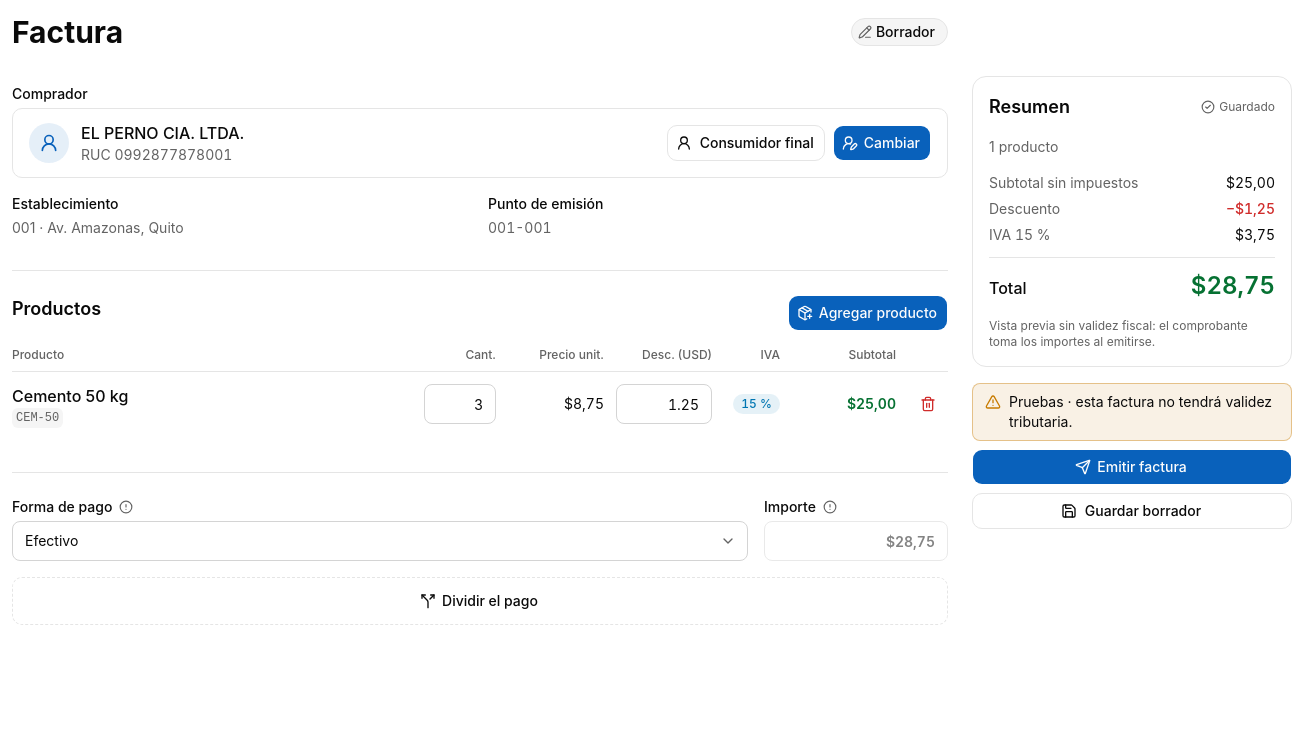
it: composición del editor › quitar una línea se deshace desde el aviso, sin pedir confirmación
Click the button named "Quitar Cemento 50 kg": click(928, 404) [908, 384, 948, 424]
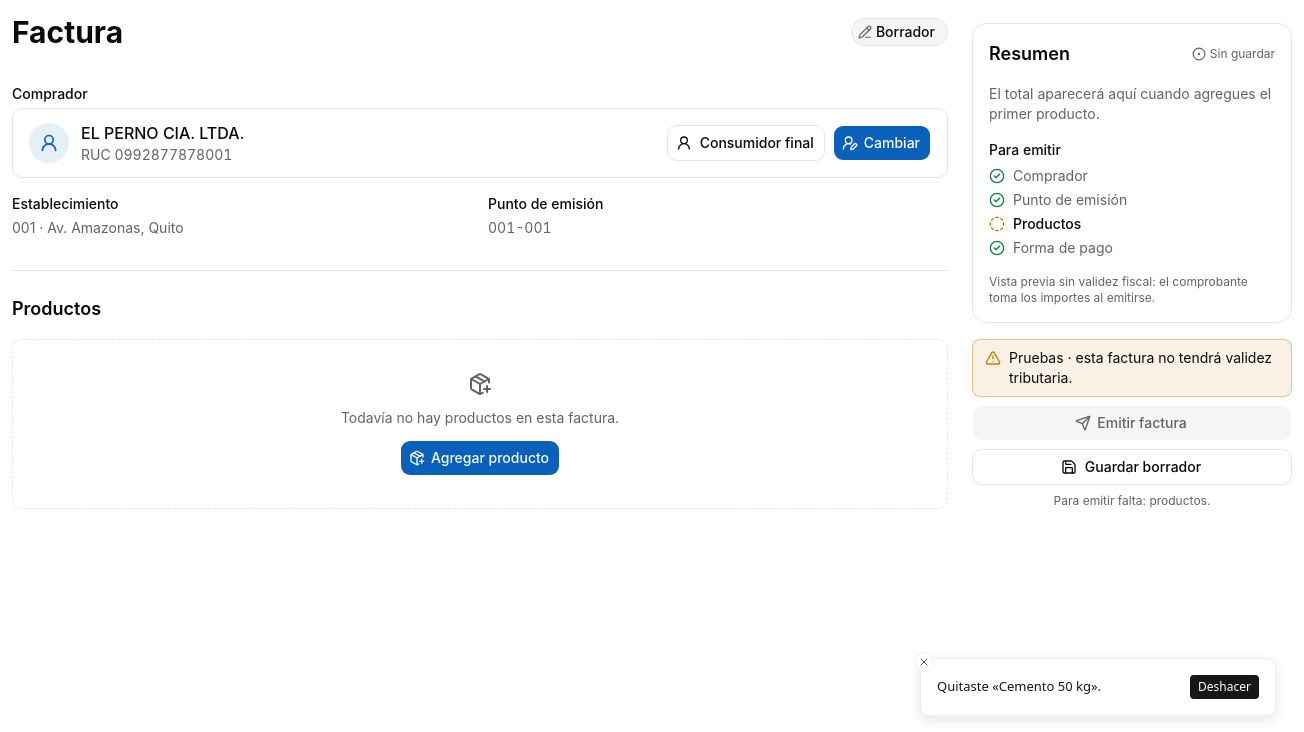
Click the button "Deshacer": click(1225, 687) [1190, 675, 1259, 699]
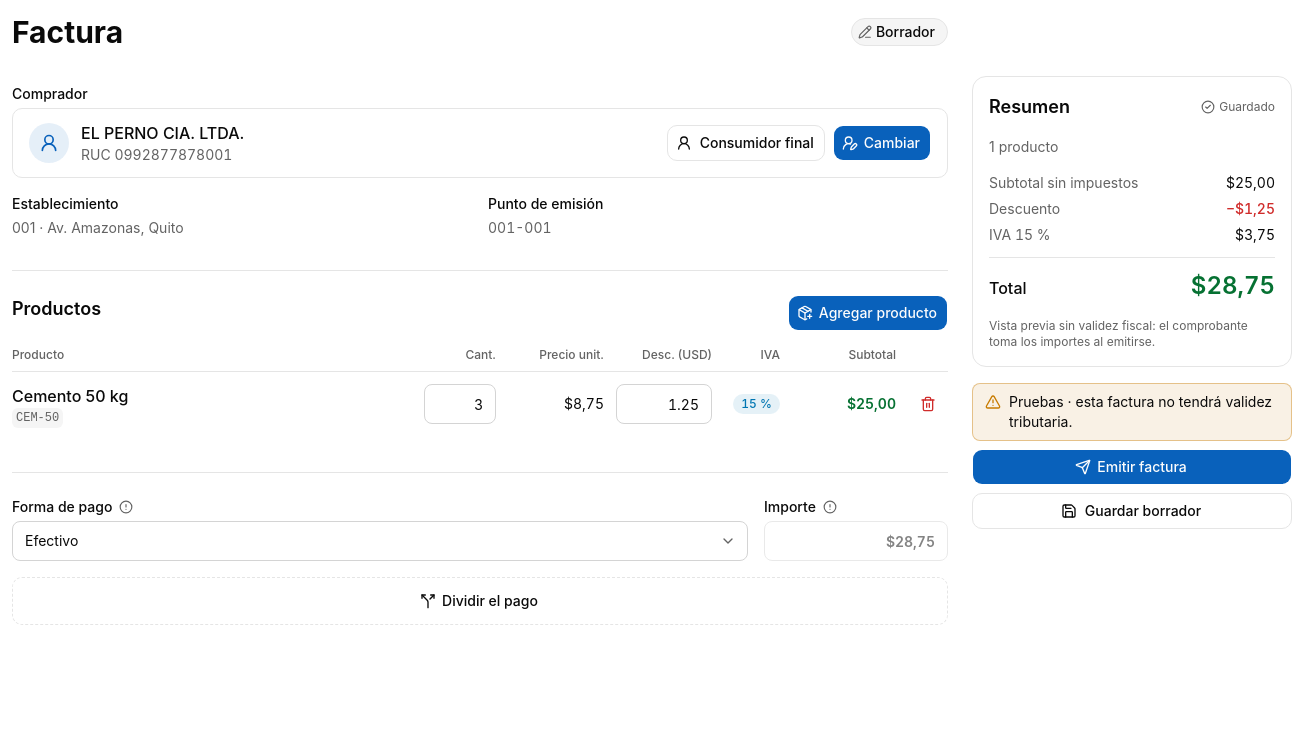
expect the list item with aria-label "Línea 1: Cemento 50 kg" is shown: met, box [12, 372, 948, 440]
